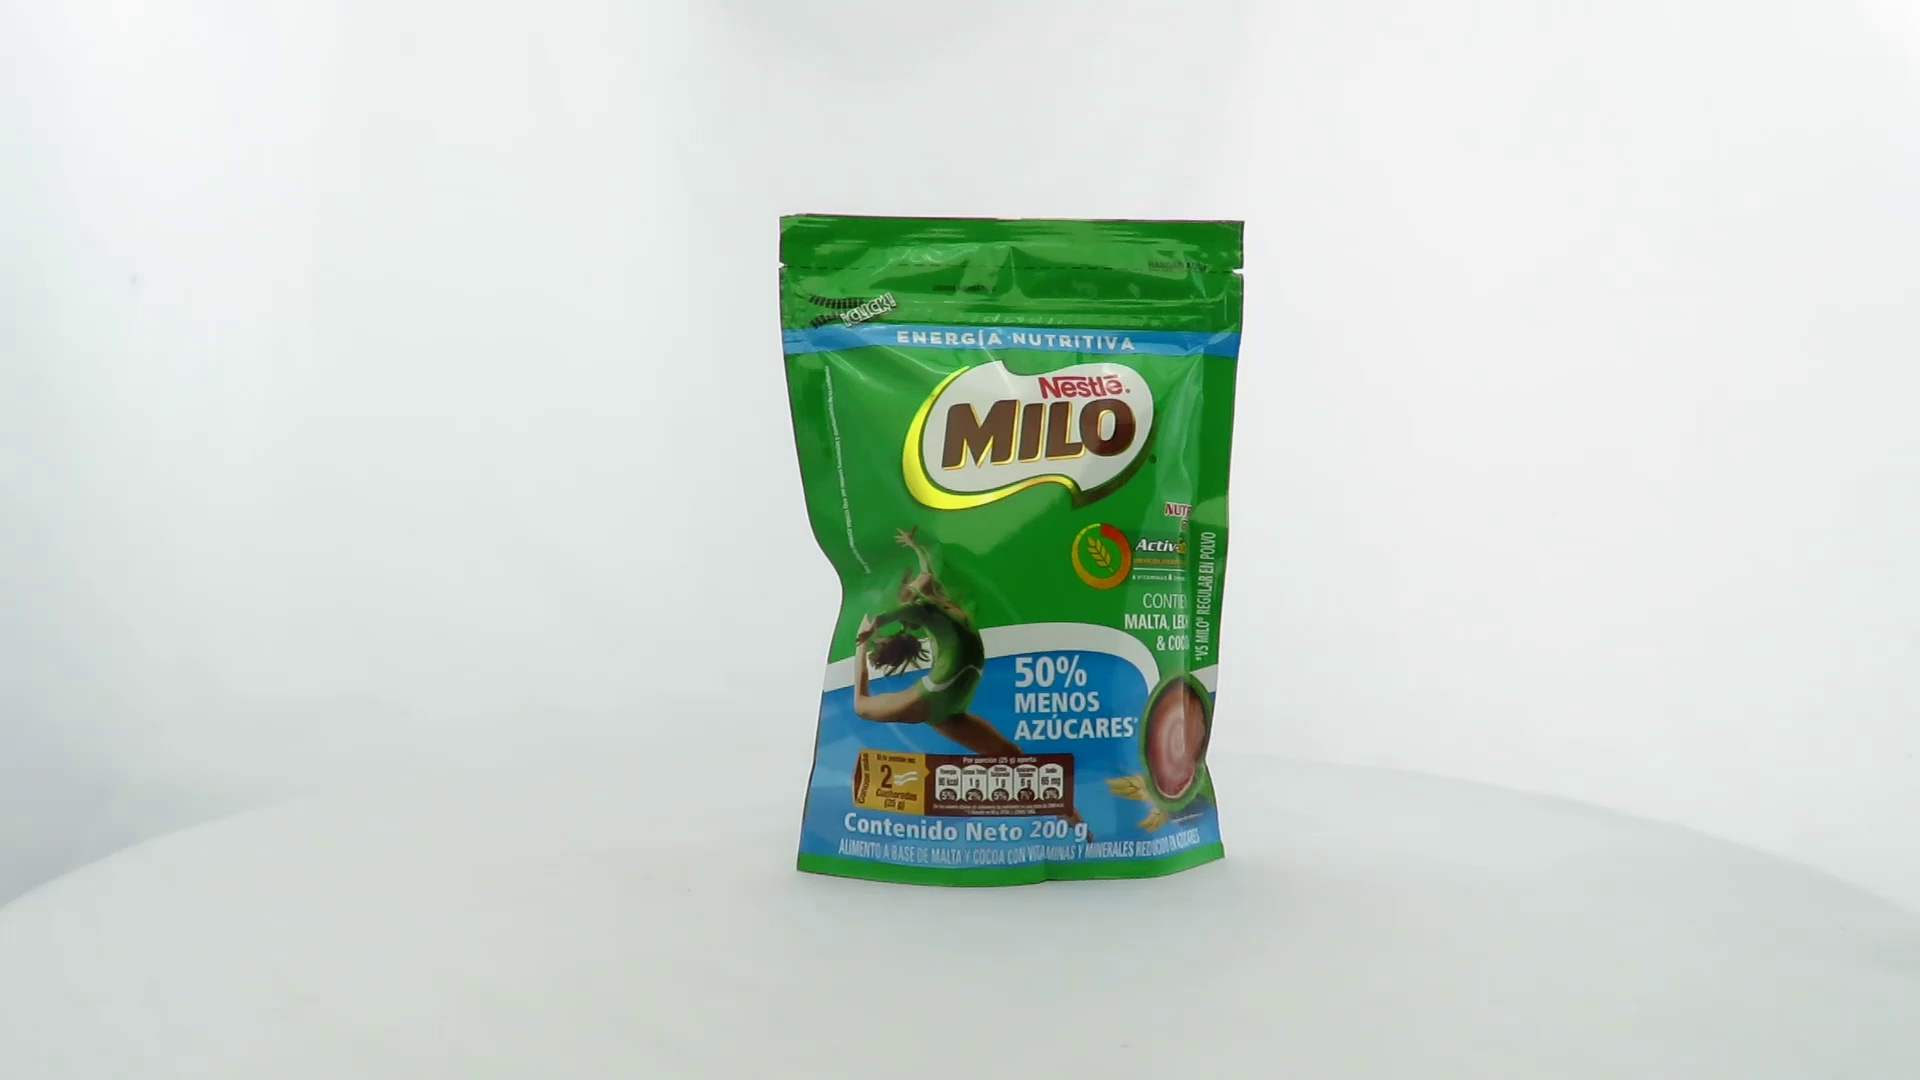COL0170205DYP20000: (773, 208, 1251, 894)
